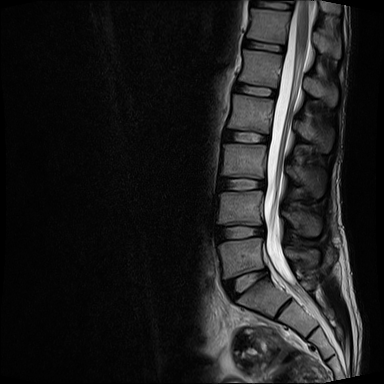Lumbar Disc Bulge (LDB): (215, 263, 274, 308), (212, 218, 272, 247)
Normal IVD: (218, 123, 274, 148), (213, 170, 271, 194), (229, 77, 281, 103), (239, 36, 289, 57)
Spinal Stenosis (SS): (252, 218, 272, 242), (258, 262, 273, 284)
